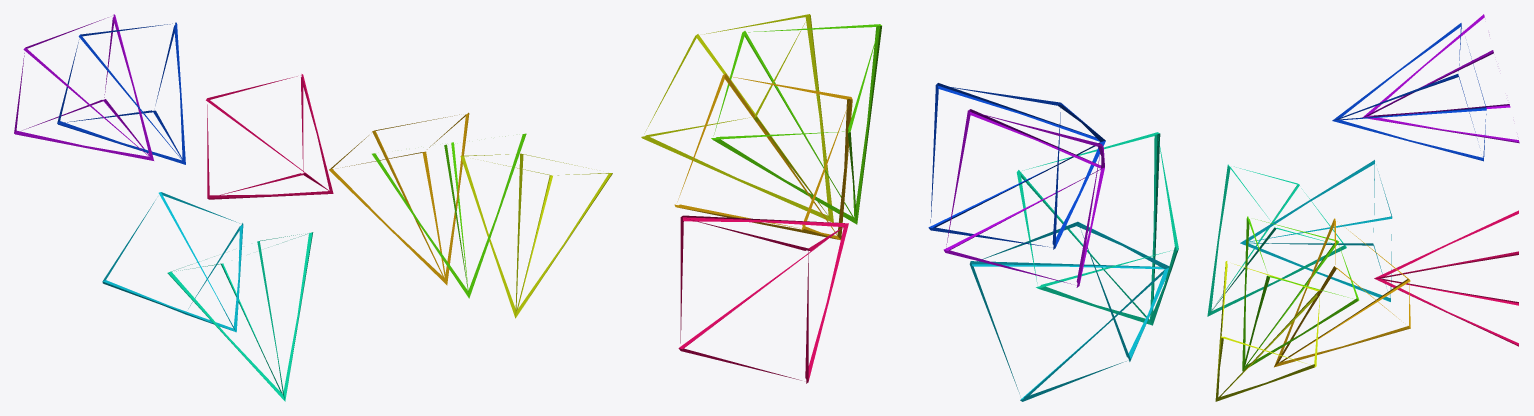
Rendered from pitch_180_wrist_video_70.glb.
3 renders of one model, left to right at view 1: azimuth 30°, elevation 25°; view 2: azimuth 150°, elevation 25°; view 3: azimuth 270°, elevation 25°, orthographic. The views are drawn at different scales.
Parts seen in each view (by area): view 1: world; view 2: world; view 3: world.
Part boxes in pixels (<box>): world: <box>14,14,612,401</box>; world: <box>641,14,1178,401</box>; world: <box>1207,14,1519,401</box>.
Size of the model in its own units: 0.7719 by 0.4676 by 0.5025.
